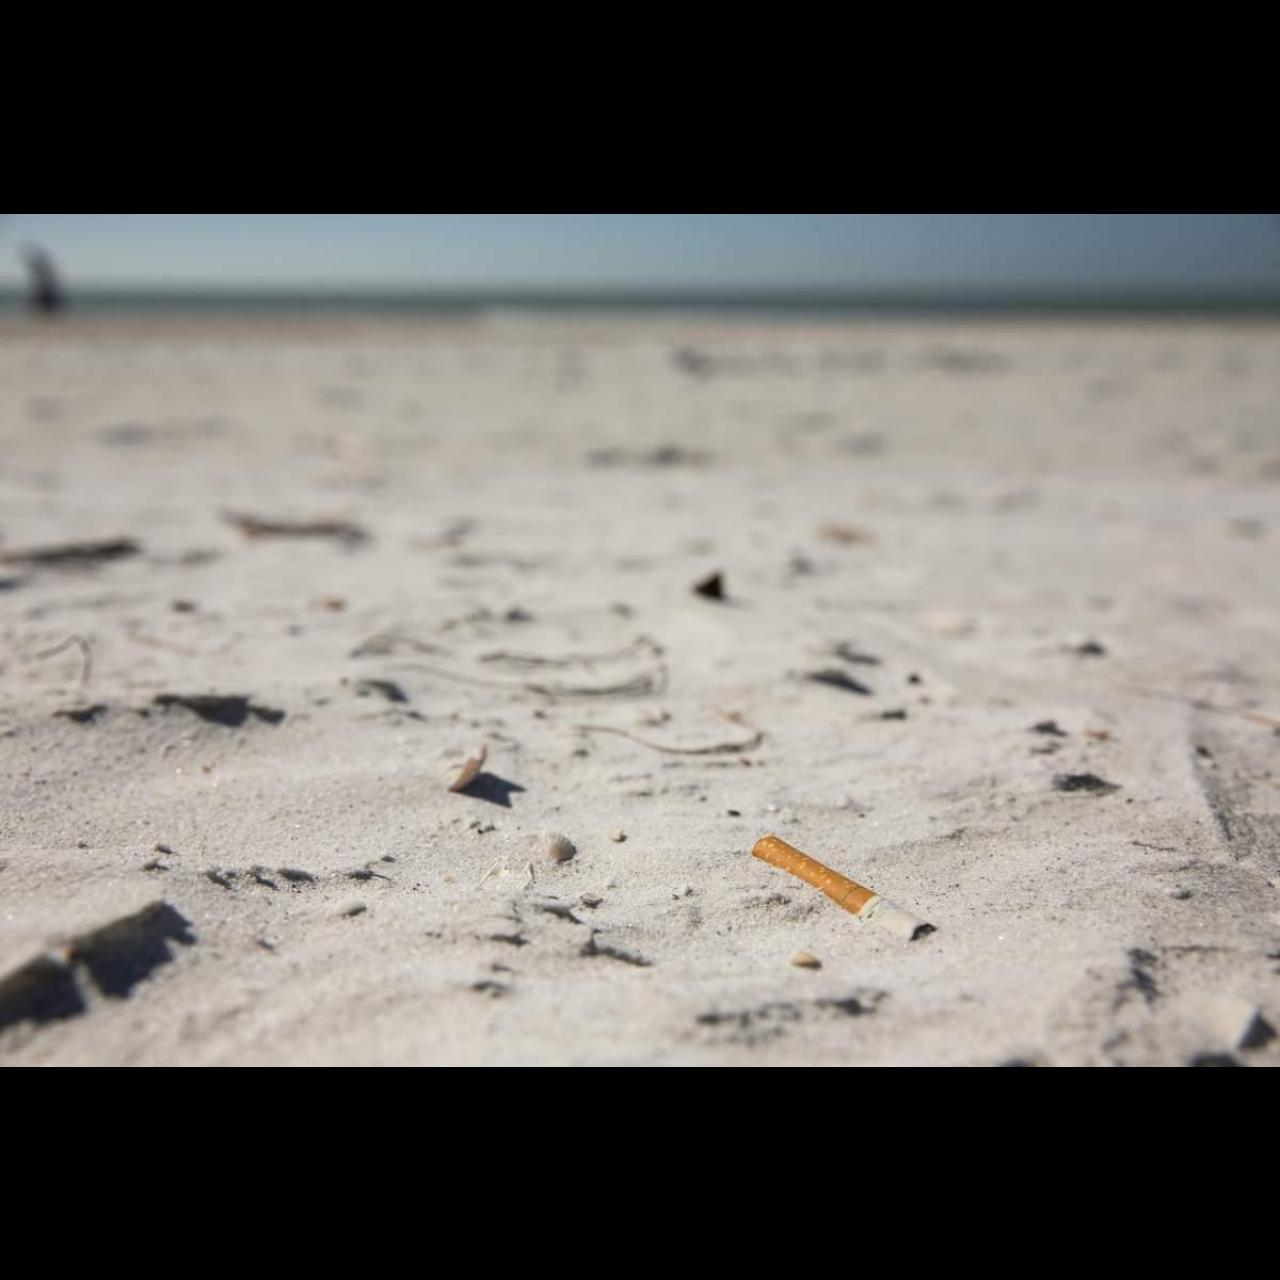cigarettes_butts: (753, 835, 938, 941)
